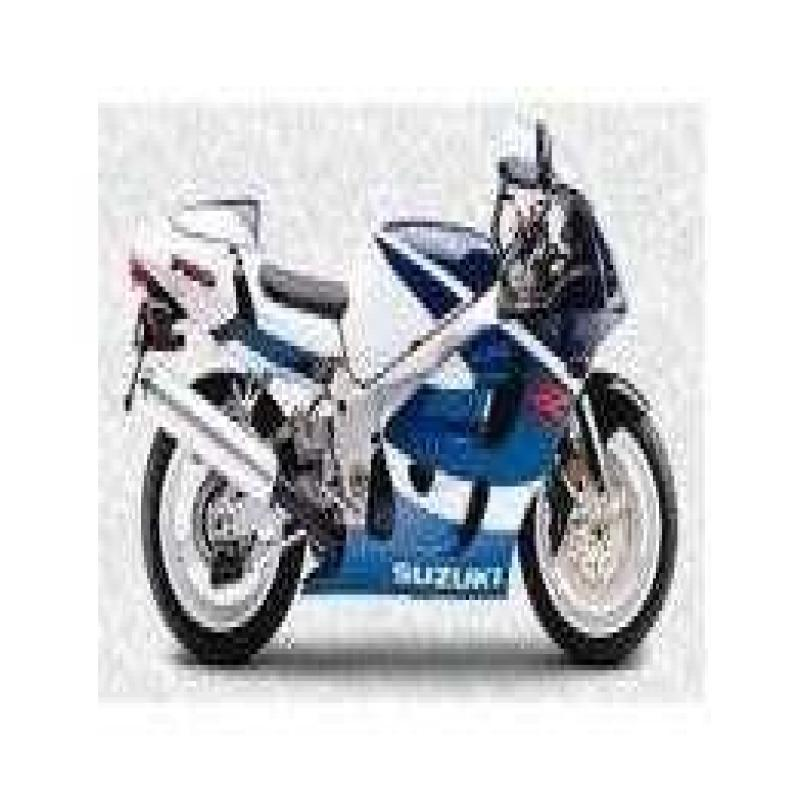bike: (96, 100, 679, 668)
